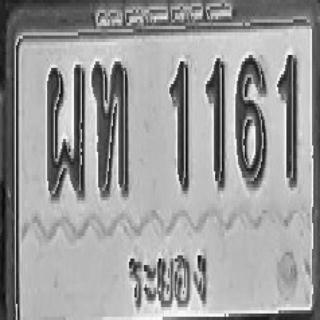A23: (92, 58, 130, 197)
A28: (46, 61, 85, 200)
N01: (169, 58, 190, 194), (206, 55, 226, 191), (278, 52, 298, 187)
N06: (236, 55, 267, 188)
P53: (126, 247, 212, 320)
